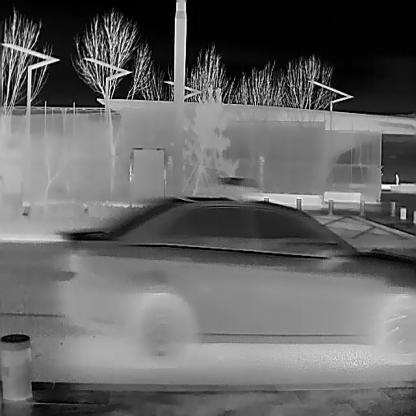car: (53, 175, 415, 371)
